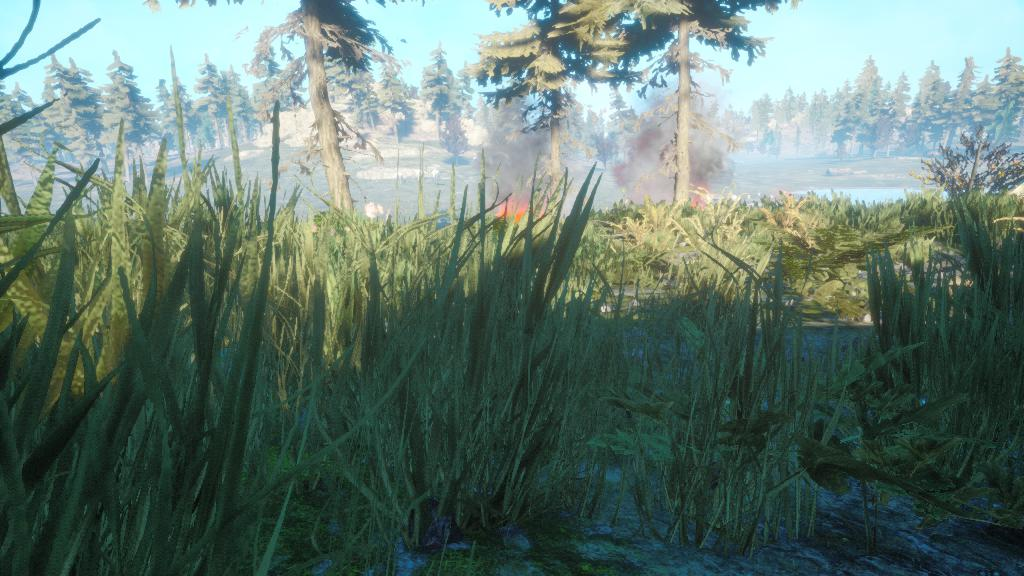smoke: (608, 100, 726, 207), (473, 111, 562, 210)
